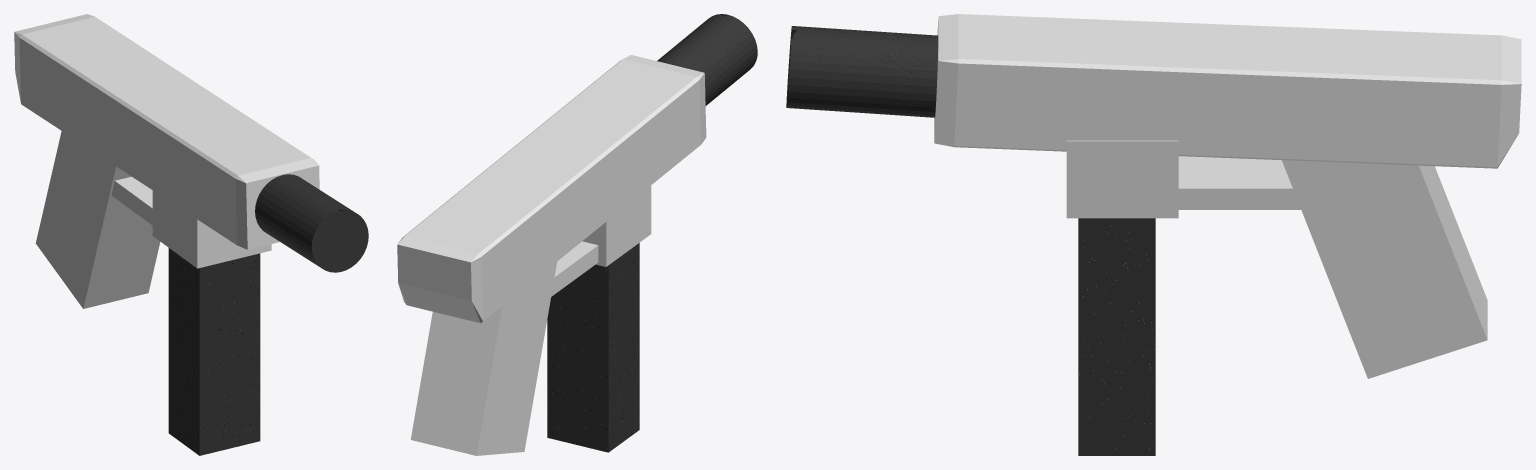
3 renders of one model, left to right at view 1: azimuth 30°, elevation 25°; view 2: azimuth 150°, elevation 25°; view 3: azimuth 270°, elevation 25°, orthographic. The views are drawn at different scales.
Parts seen in each view (by area): view 1: Main, Detail, Grip, Detail.003, Detail.001, Detail.002; view 2: Main, Grip, Detail, Detail.003, Detail.001, Detail.002; view 3: Main, Grip, Detail, Detail.003, Detail.001, Detail.002.
Boxes of the visible parts, <box> form: Main: <box>14,14,319,249</box>; Detail: <box>168,248,260,455</box>; Grip: <box>35,131,160,308</box>; Detail.003: <box>255,174,368,272</box>; Detail.001: <box>152,190,271,268</box>; Detail.002: <box>111,176,152,225</box>; Main: <box>397,55,706,323</box>; Grip: <box>410,262,556,455</box>; Detail: <box>547,243,639,452</box>; Detail.003: <box>657,14,757,105</box>; Detail.001: <box>582,185,651,266</box>; Detail.002: <box>551,241,598,296</box>; Main: <box>934,14,1521,168</box>; Grip: <box>1281,160,1487,378</box>; Detail: <box>1078,218,1155,455</box>; Detail.003: <box>786,26,938,117</box>; Detail.001: <box>1066,140,1178,218</box>; Detail.002: <box>1178,156,1300,209</box>.
Bounding box in the file's own units: 0.6522 × 2.53 × 4.16.
6 materials, 2 textured.
